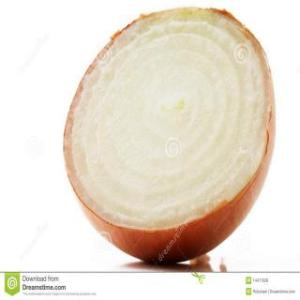onion: (61, 5, 277, 267)
